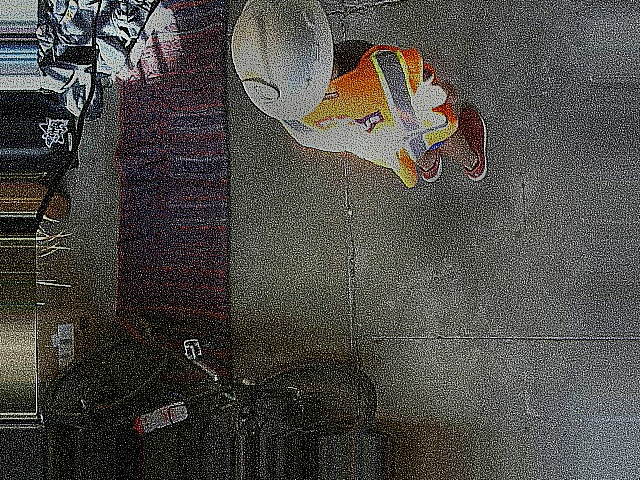two: (240, 78, 279, 105)
